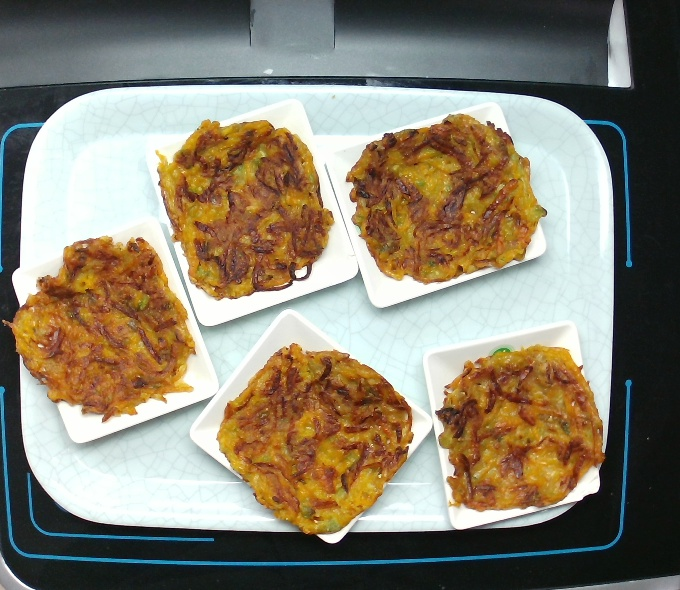wcq-NanGuaBing: (212, 339, 418, 538), (2, 231, 201, 427), (342, 107, 551, 291), (151, 111, 342, 303), (430, 337, 609, 519)
